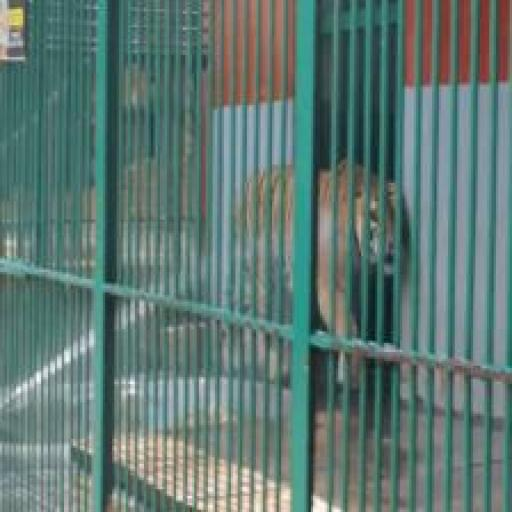Tiger: (229, 130, 457, 469)
